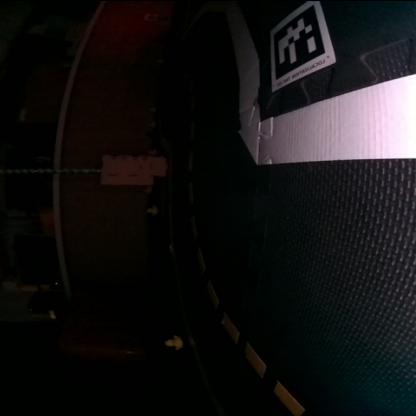Duckie: (164, 333, 184, 349), (146, 204, 158, 214)
QR code: (268, 0, 336, 90)
